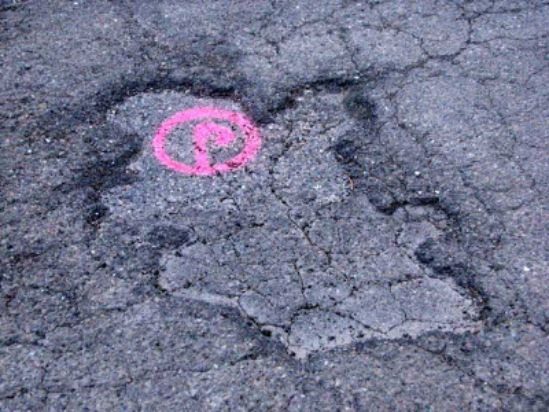pothole: (68, 62, 498, 371)
